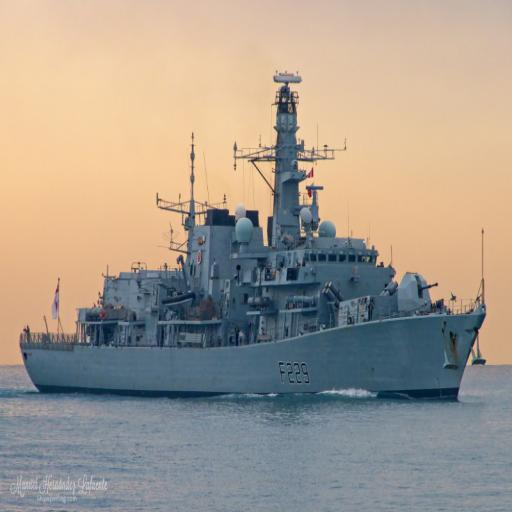Fragata: (16, 60, 487, 412)
